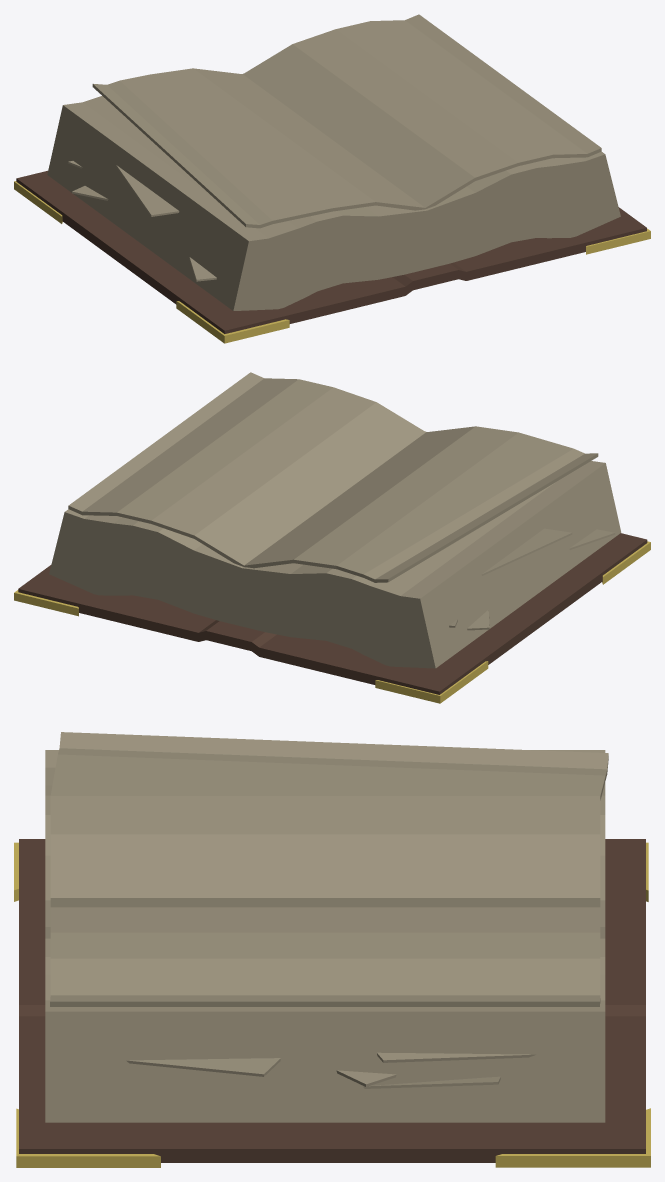
File: Book3_Open.glb
3 renders of one model, top to bottom at view 1: azimuth 30°, elevation 25°; view 2: azimuth 150°, elevation 25°; view 3: azimuth 270°, elevation 25°, orthographic. The views are drawn at different scales.
Parts seen in each view (by area): view 1: Book3_Open; view 2: Book3_Open; view 3: Book3_Open.
Part boxes in pixels (x1=…): Book3_Open: x1=14, y1=14, x2=650, y2=343; Book3_Open: x1=14, y1=372, x2=650, y2=703; Book3_Open: x1=14, y1=732, x2=650, y2=1167.
Size of the model in its own units: 0.8766 by 0.1945 by 0.7521.
